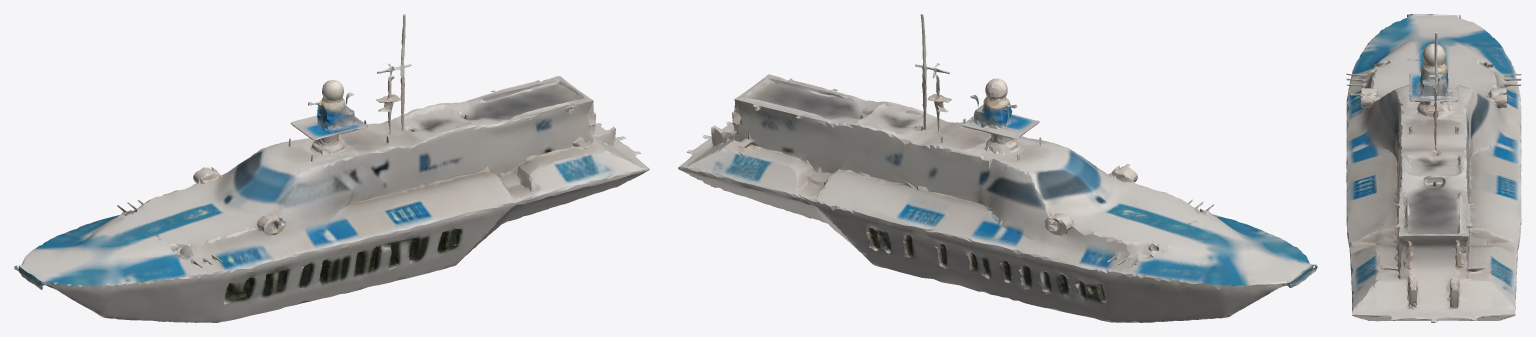
File: police_frigate.glb
The picture shows the model from 3 angles, left to right: view 1: azimuth 30°, elevation 25°; view 2: azimuth 150°, elevation 25°; view 3: azimuth 270°, elevation 25°; orthographic projection. The views are drawn at different scales.
Parts seen in each view (by area): view 1: police_frigate; view 2: police_frigate; view 3: police_frigate.
Boxes of the visible parts, left/top/right/bottom form: police_frigate: left=14, top=14, right=649, bottom=322; police_frigate: left=678, top=14, right=1317, bottom=322; police_frigate: left=1346, top=14, right=1521, bottom=322.
Bounding box in the file's own units: 1.89 × 0.6976 × 0.4656.
1 material, 1 textured.
